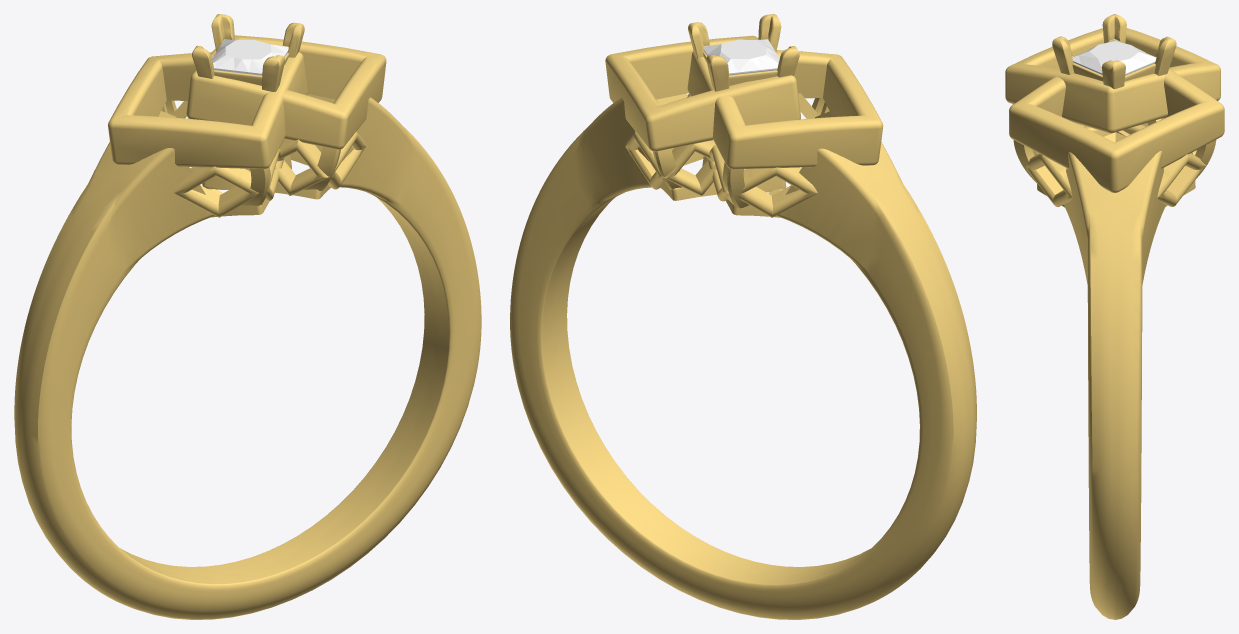
Rendered from allison2019_webgi.glb.
3 renders of one model, left to right at view 1: azimuth 30°, elevation 25°; view 2: azimuth 150°, elevation 25°; view 3: azimuth 270°, elevation 25°, orthographic. The views are drawn at different scales.
Visible parts, largest first — view 1: Bryant_2019016, Bryant_2019015; view 2: Bryant_2019016, Bryant_2019015; view 3: Bryant_2019016, Bryant_2019015.
Boxes of the visible parts, x1,y1,x2,y2 form: Bryant_2019016: (14,14,481,619); Bryant_2019015: (212,39,288,75); Bryant_2019016: (510,14,976,619); Bryant_2019015: (704,39,779,75); Bryant_2019016: (1005,14,1224,619); Bryant_2019015: (1072,39,1156,75).
Bounding box in the file's own units: 2.46 × 2.97 × 1.06.
